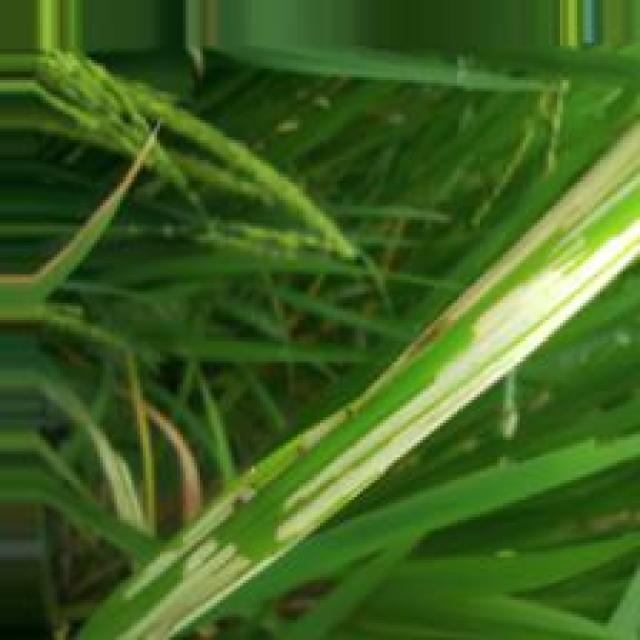Rice_Hispa: (115, 116, 640, 605), (279, 212, 640, 547), (119, 544, 265, 640)
